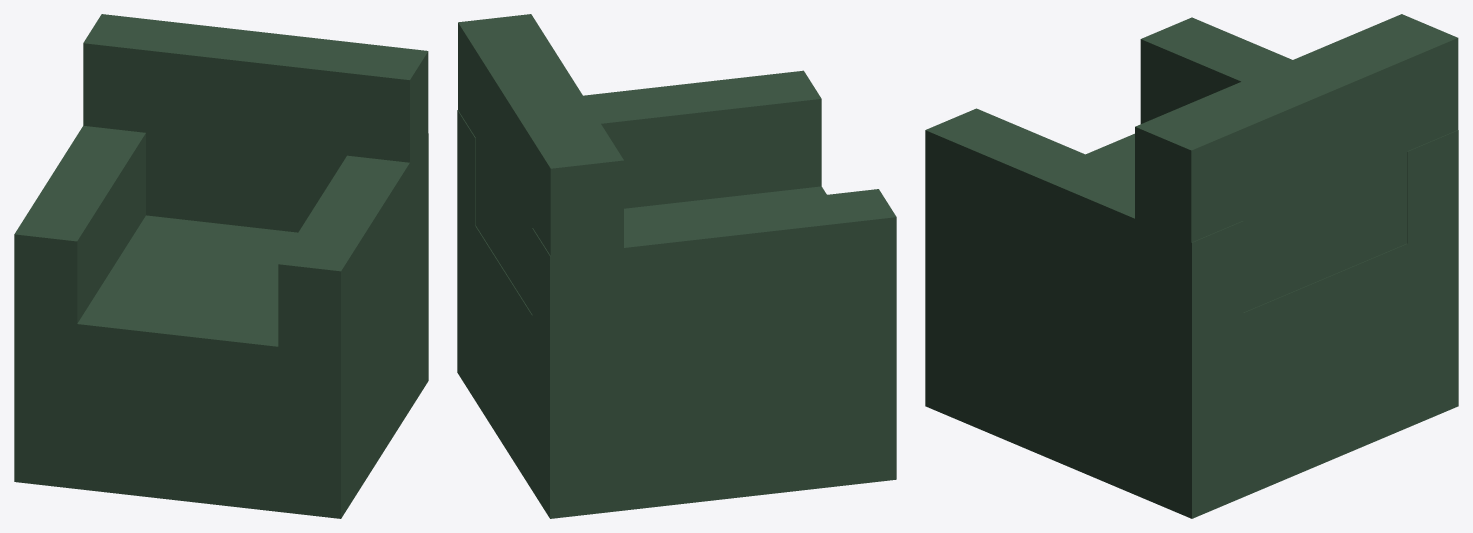
File: armchair.glb
The picture shows the model from 3 angles, left to right: view 1: azimuth 30°, elevation 25°; view 2: azimuth 150°, elevation 25°; view 3: azimuth 270°, elevation 25°; orthographic projection. The views are drawn at different scales.
Visible parts, largest first — view 1: armchair; view 2: armchair; view 3: armchair.
Boxes of the visible parts, left/top/right/bottom form: armchair: left=14, top=14, right=428, bottom=518; armchair: left=457, top=14, right=896, bottom=518; armchair: left=925, top=14, right=1458, bottom=518.
Size of the model in its own units: 3.68 by 2.8 by 3.68.
